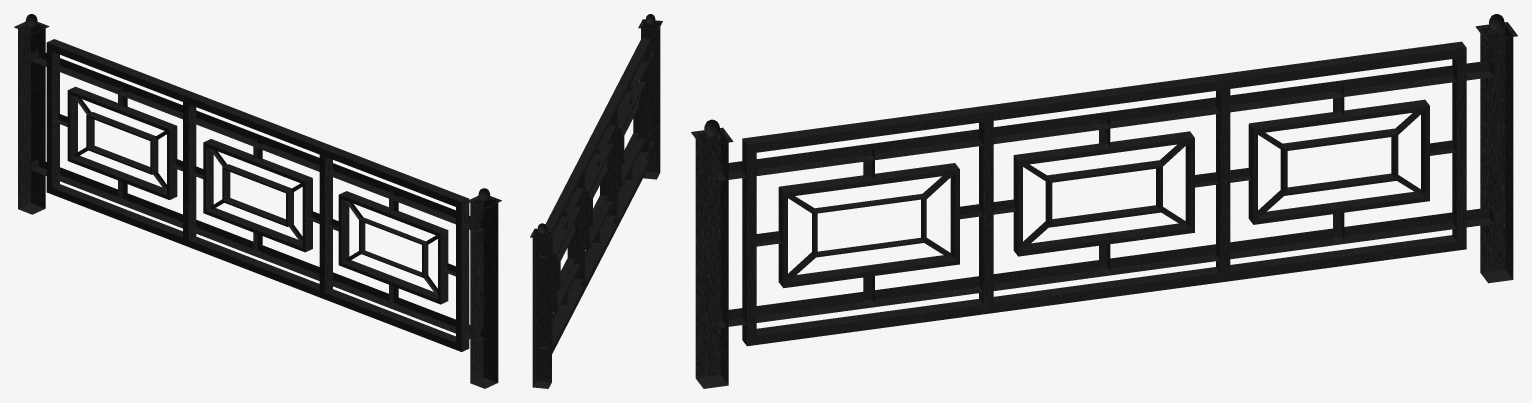
File: fence.glb
The picture shows the model from 3 angles, left to right: view 1: azimuth 30°, elevation 25°; view 2: azimuth 150°, elevation 25°; view 3: azimuth 270°, elevation 25°; orthographic projection. The views are drawn at different scales.
Parts seen in each view (by area): view 1: Куб.016; view 2: Куб.016; view 3: Куб.016.
Boxes of the visible parts, x1=… form: Куб.016: x1=14, y1=14, x2=501, y2=388; Куб.016: x1=530, y1=14, x2=662, y2=388; Куб.016: x1=691, y1=14, x2=1517, y2=388.
Size of the model in its own units: 1.19 by 1.18 by 3.37.
Materials: 1 (1 with a texture image).
